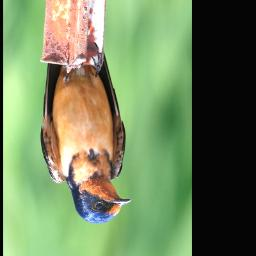Swallow: (40, 40, 132, 224)
